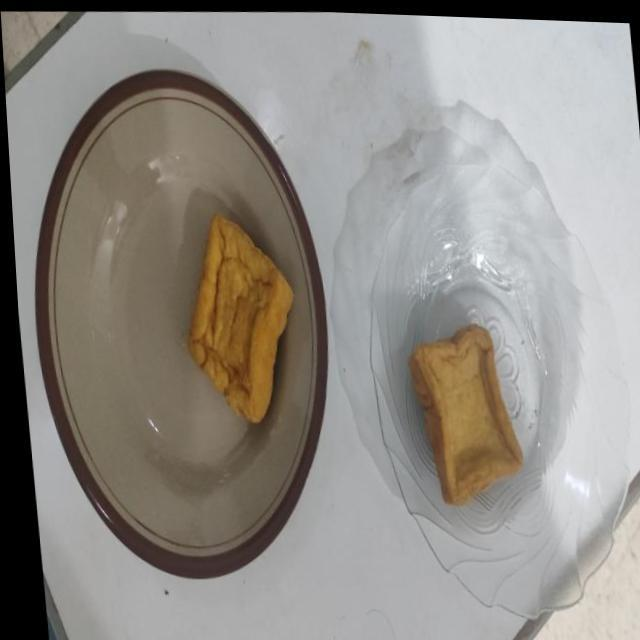tahu_goreng: (187, 215, 293, 422), (408, 324, 522, 506)
